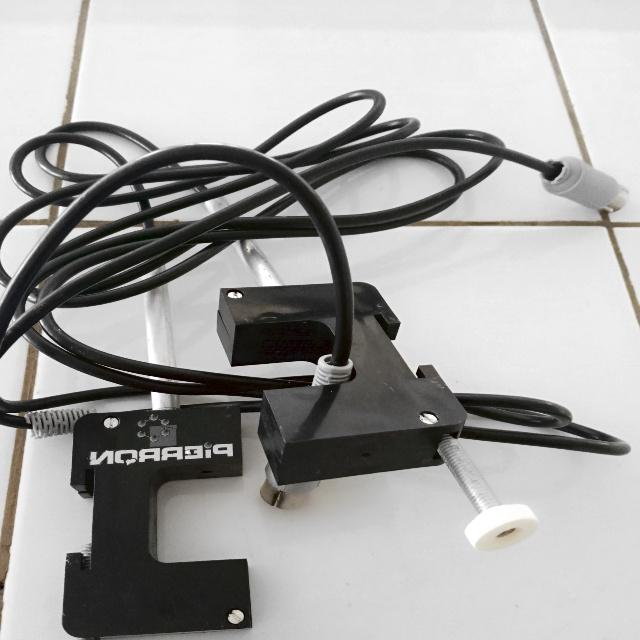Bulb Socket: (0, 103, 632, 544)
